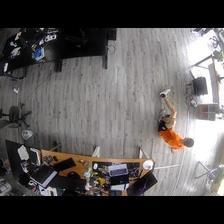fall: (158, 89, 194, 153)
